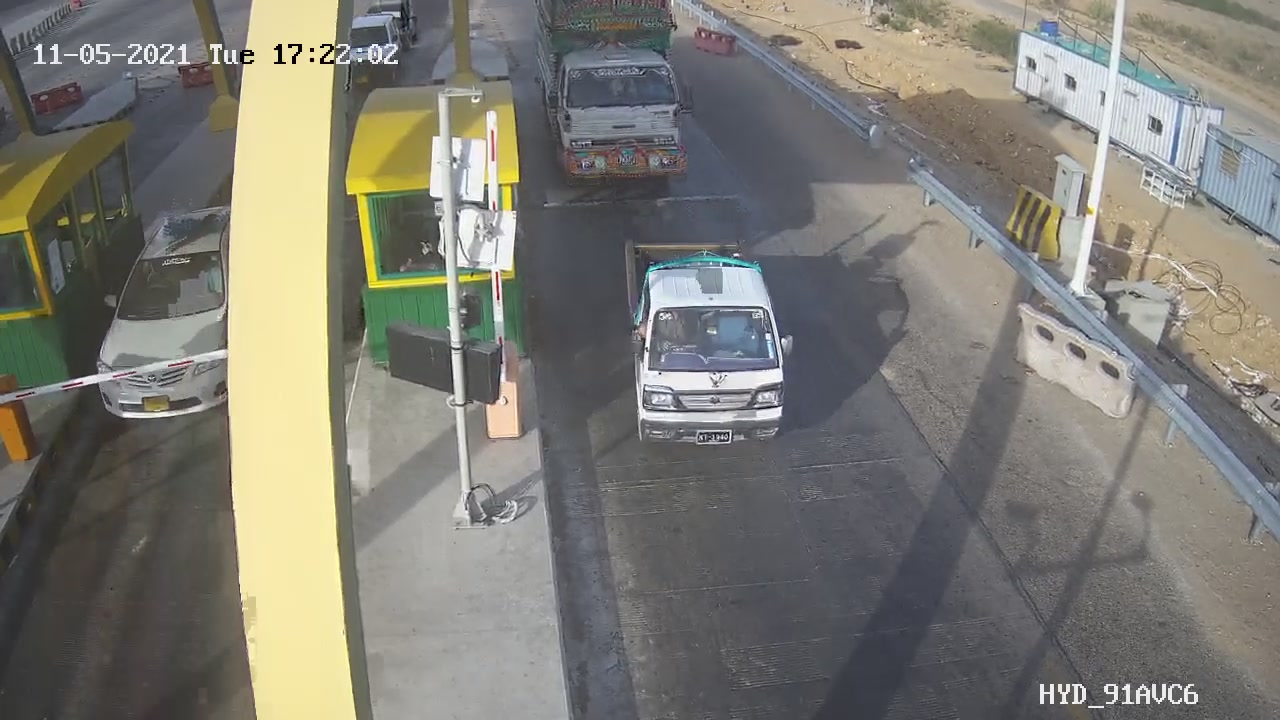F1: (605, 225, 809, 466)
